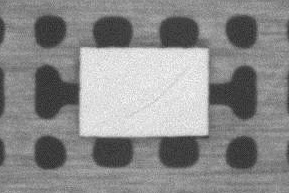DIE_CRACK: (127, 70, 187, 116)
